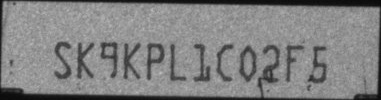1: (193, 42, 211, 82)
2: (263, 43, 281, 84)
5: (308, 45, 326, 83)
9: (101, 40, 118, 79)
C: (216, 43, 235, 81)
F: (285, 44, 305, 83)
K: (76, 41, 95, 78), (123, 40, 141, 79)
L: (170, 42, 187, 81)
O: (238, 43, 256, 82)
P: (145, 42, 165, 80)
S: (53, 40, 72, 79)
